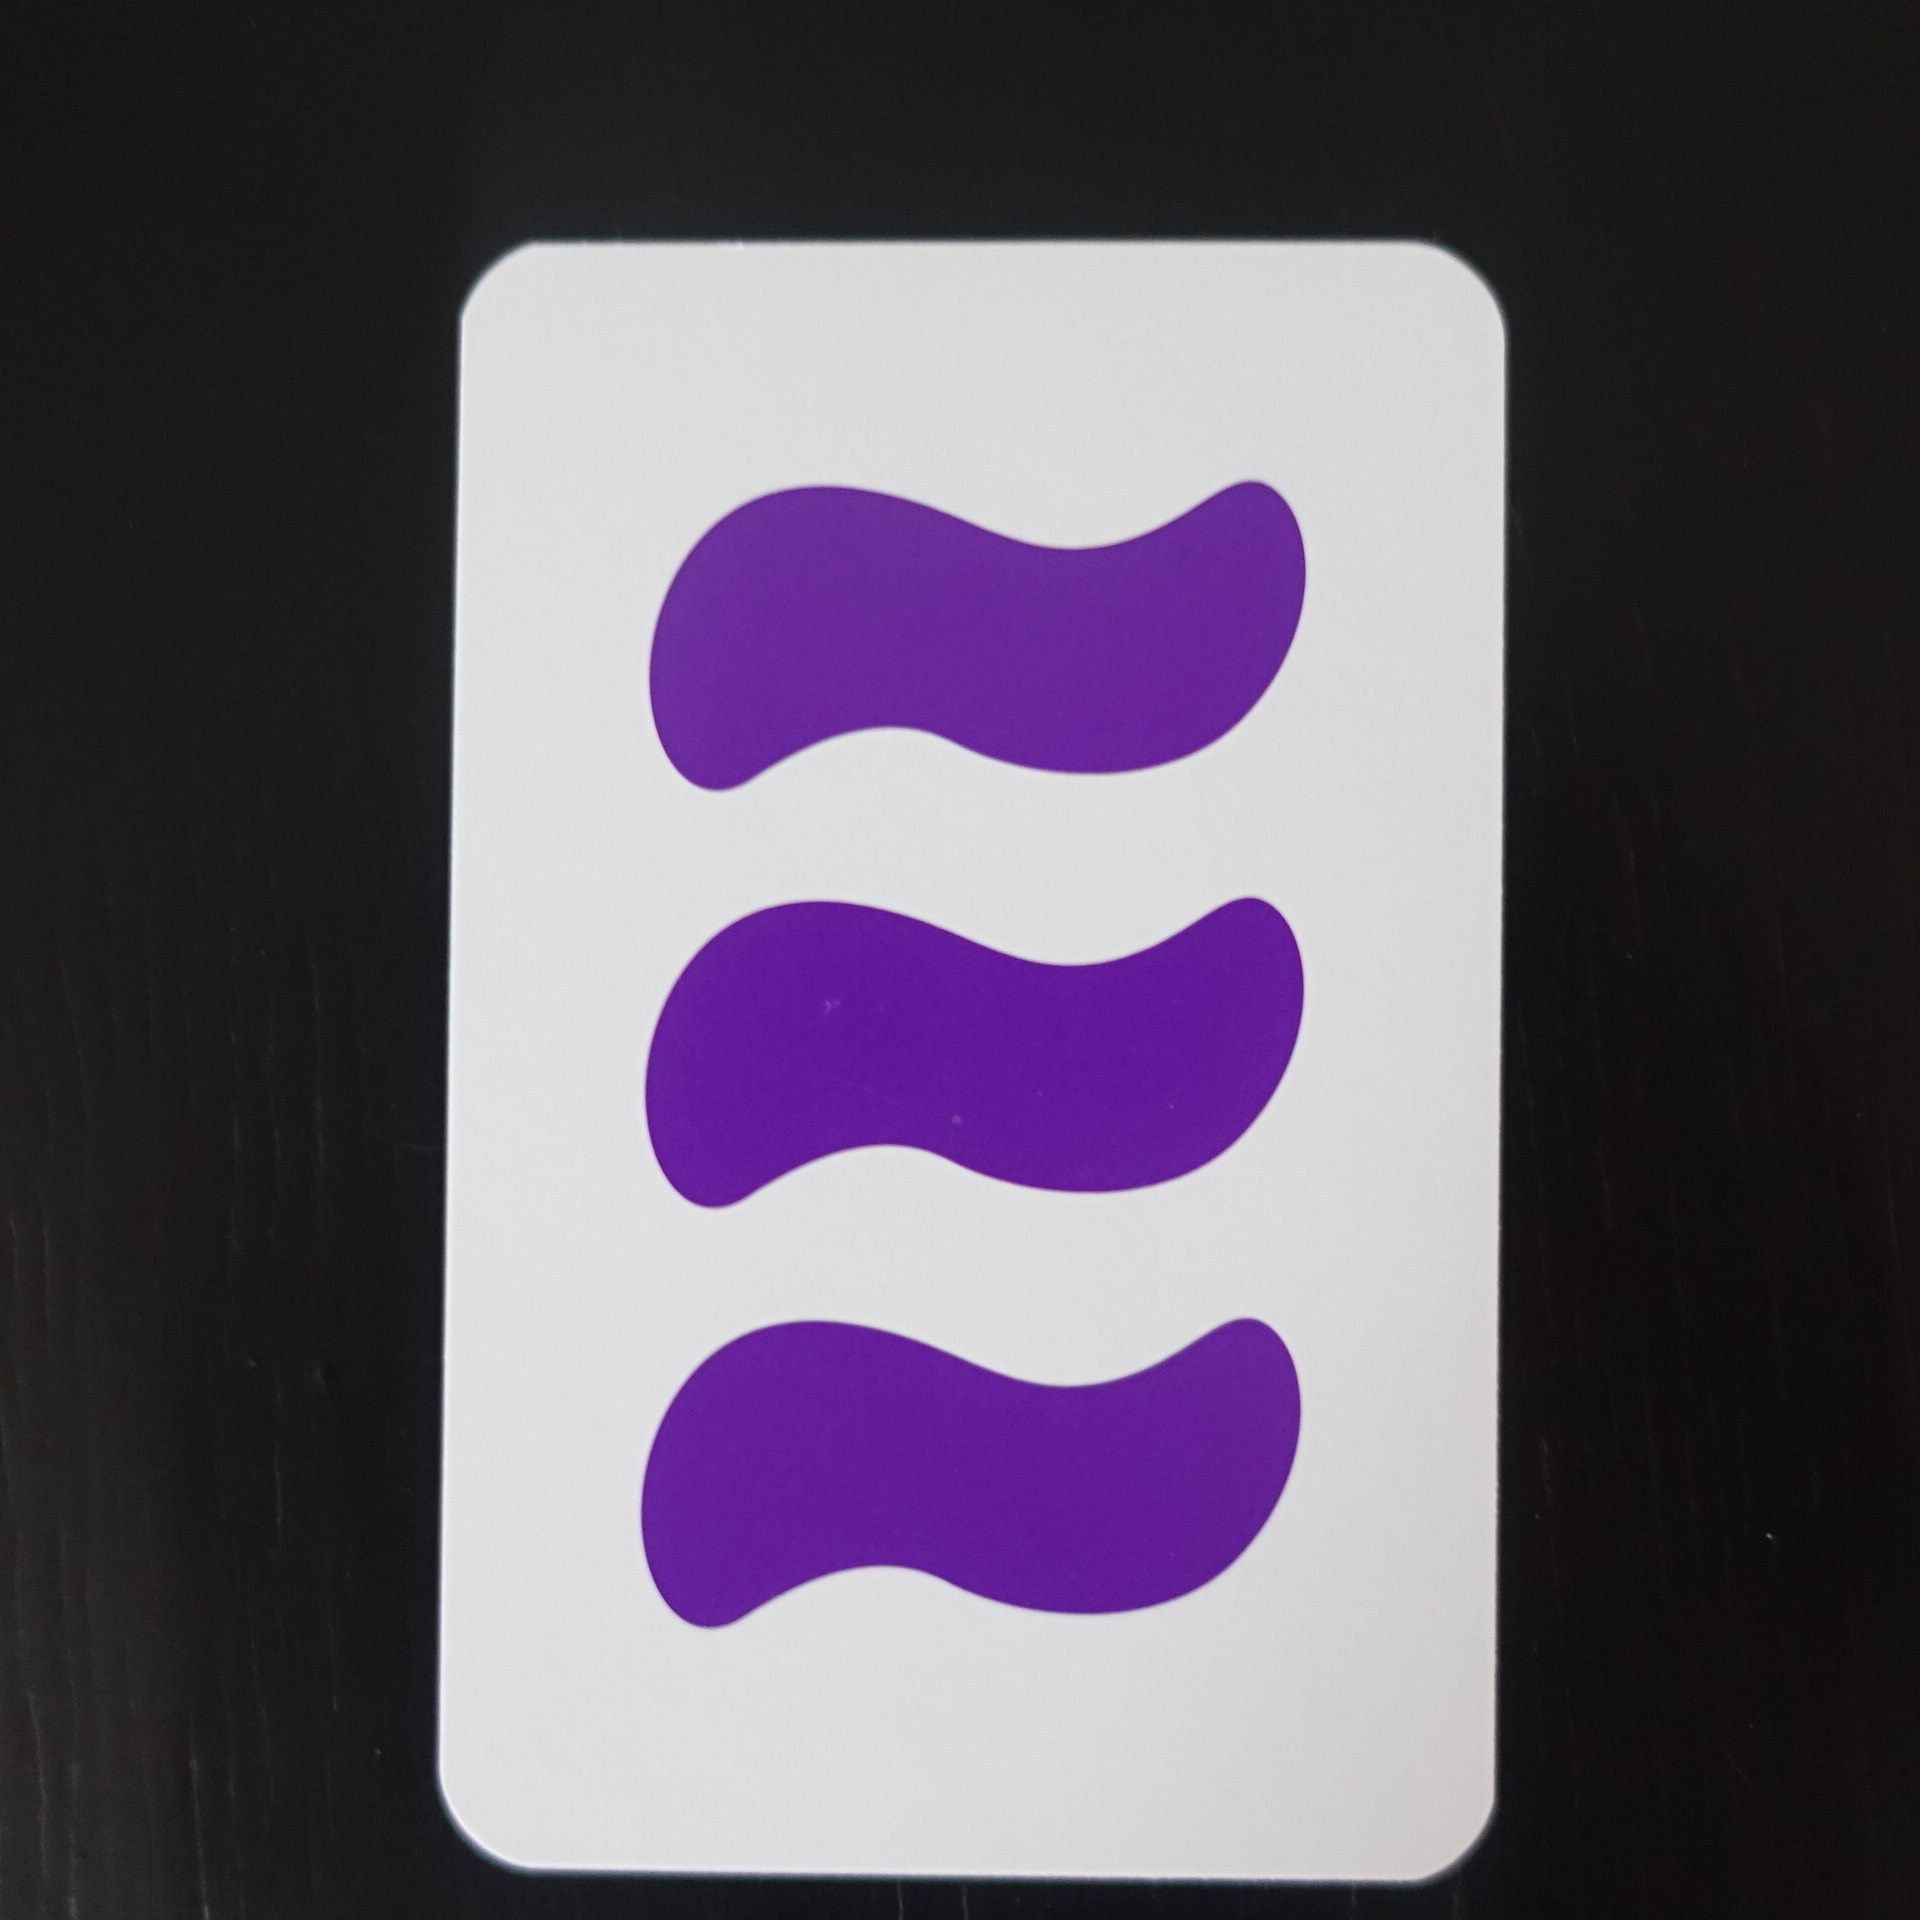c-3-f-s-p: (406, 215, 1517, 1904)
